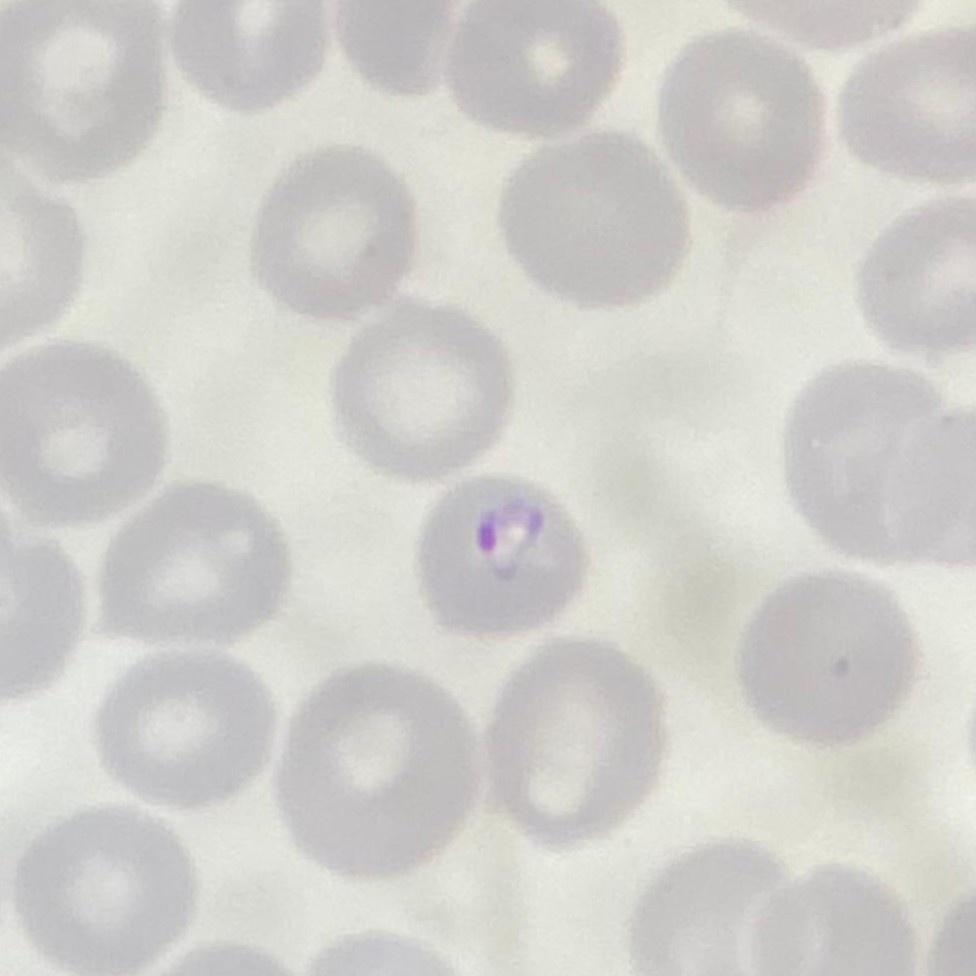Infected: (415, 473, 588, 643)
Uninfected: (282, 668, 487, 885), (787, 353, 974, 560), (487, 641, 669, 846), (497, 133, 692, 313), (738, 571, 922, 755), (98, 481, 292, 648), (0, 336, 168, 528), (13, 796, 191, 976), (330, 306, 509, 481), (660, 28, 828, 209), (90, 643, 274, 808), (0, 0, 171, 176), (255, 141, 419, 314), (448, 0, 631, 136), (630, 843, 808, 976), (843, 21, 976, 198), (745, 858, 914, 976), (173, 0, 326, 123)
